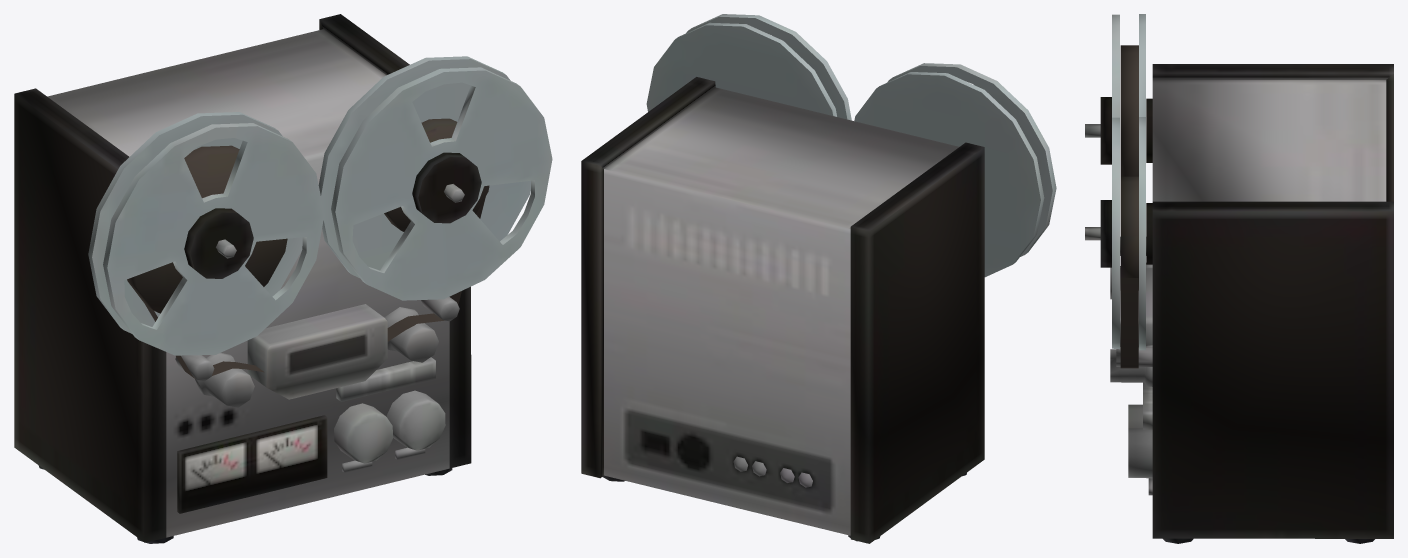
The picture shows the model from 3 angles, left to right: view 1: azimuth 30°, elevation 25°; view 2: azimuth 150°, elevation 25°; view 3: azimuth 270°, elevation 25°; orthographic projection. The views are drawn at different scales.
Bounding box in the file's own units: 7.37 × 6.77 × 4.77.
Materials: 1 (1 with a texture image).
